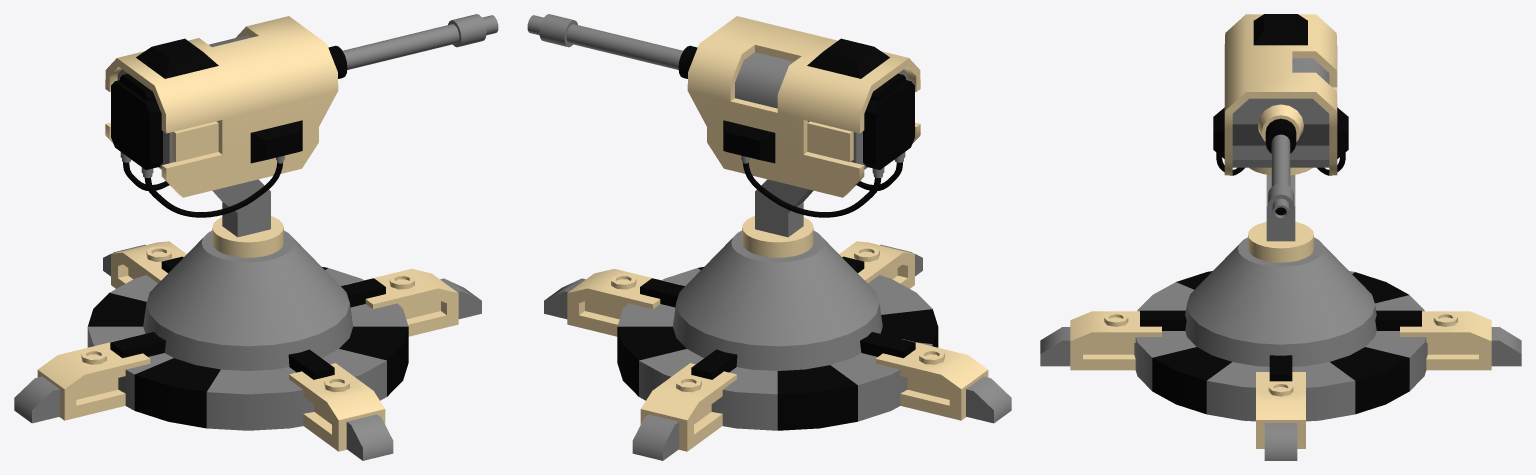
The model's file is turret_joined.fbx.
3 renders of one model, left to right at view 1: azimuth 30°, elevation 25°; view 2: azimuth 150°, elevation 25°; view 3: azimuth 270°, elevation 25°, orthographic. The views are drawn at different scales.
Visible parts, largest first — view 1: Barel_low; view 2: Barel_low; view 3: Barel_low.
Boxes of the visible parts, x1,y1,x2,y2 form: Barel_low: (14, 14, 498, 460); Barel_low: (527, 14, 1011, 460); Barel_low: (1040, 14, 1521, 460).
Size of the model in its own units: 339 by 228 by 324.
